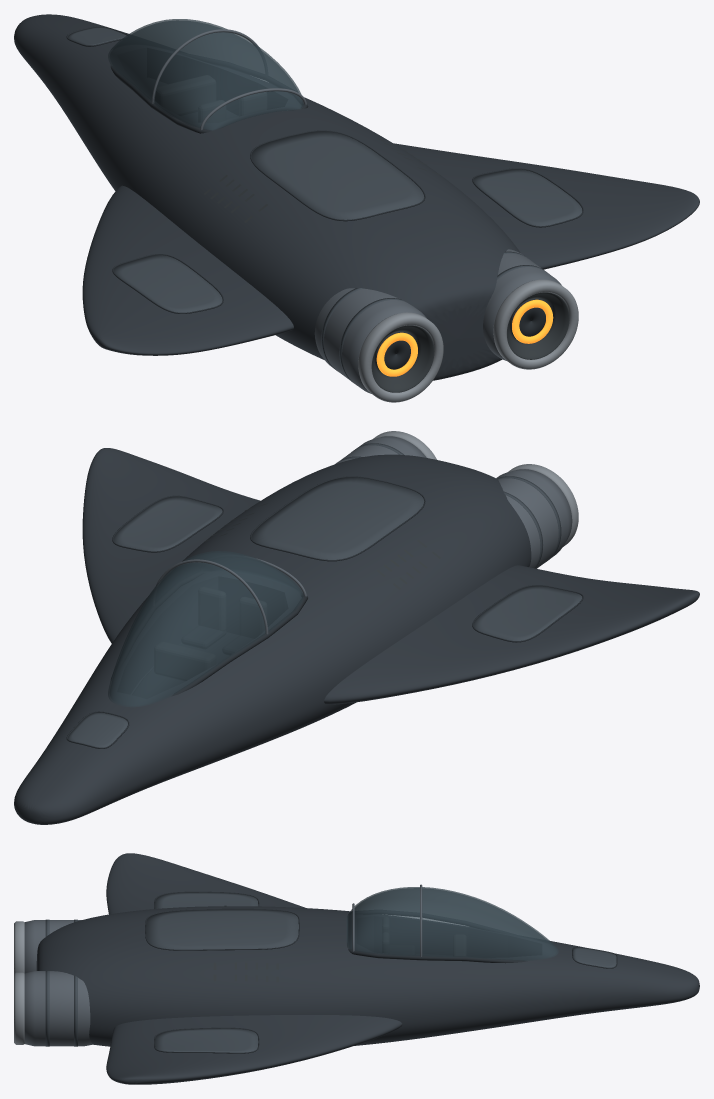
File: lp-explorer-stage1.glb
3 renders of one model, top to bottom at view 1: azimuth 30°, elevation 25°; view 2: azimuth 150°, elevation 25°; view 3: azimuth 270°, elevation 25°, orthographic. The views are drawn at different scales.
Parts seen in each view (by area): view 1: HULL_continuous_pressure_body, HULL_port_swept_shoulder, COCKPIT_smoked_panoramic_glazing, HULL_starboard_swept_shoulder, HULL_dorsal_avionics_access, ENGINE_port_structural_outer_shell, WING_port_thermal_service_panel, WING_starboard_thermal_service_panel, ENGINE_port_bevelled_exit_ring, ENGINE_starboard_bevelled_exit_ring, ENGINE_starboard_structural_outer_shell, ENGINE_port_recessed_nozzle_liner (+9 smaller); view 2: HULL_continuous_pressure_body, HULL_port_swept_shoulder, COCKPIT_smoked_panoramic_glazing, HULL_starboard_swept_shoulder, HULL_dorsal_avionics_access, ENGINE_port_structural_outer_shell, WING_port_thermal_service_panel, WING_starboard_thermal_service_panel, COCKPIT_integrated_instrument_console, COCKPIT_recessed_perimeter_gasket, HULL_bow_sensor_access, COCKPIT_recessed_interior_floor (+6 smaller); view 3: HULL_continuous_pressure_body, HULL_starboard_swept_shoulder, COCKPIT_smoked_panoramic_glazing, HULL_dorsal_avionics_access, HULL_port_swept_shoulder, ENGINE_starboard_structural_outer_shell, WING_starboard_thermal_service_panel, COCKPIT_recessed_perimeter_gasket, WING_port_thermal_service_panel, ENGINE_port_structural_outer_shell, ENGINE_starboard_bevelled_exit_ring, HULL_bow_sensor_access (+3 smaller).
Part boxes in pixels (x1=…): HULL_continuous_pressure_body: x1=14, y1=14, x2=520, y2=380; HULL_port_swept_shoulder: x1=82, y1=185, x2=293, y2=355; COCKPIT_smoked_panoramic_glazing: x1=108, y1=19, x2=303, y2=130; HULL_starboard_swept_shoulder: x1=394, y1=143, x2=699, y2=269; HULL_dorsal_avionics_access: x1=251, y1=131, x2=424, y2=219; ENGINE_port_structural_outer_shell: x1=314, y1=288, x2=426, y2=393; WING_port_thermal_service_panel: x1=113, y1=255, x2=222, y2=312; WING_starboard_thermal_service_panel: x1=473, y1=169, x2=582, y2=226; ENGINE_port_bevelled_exit_ring: x1=358, y1=312, x2=443, y2=402; ENGINE_starboard_bevelled_exit_ring: x1=493, y1=279, x2=578, y2=369; ENGINE_starboard_structural_outer_shell: x1=483, y1=249, x2=561, y2=360; ENGINE_port_recessed_nozzle_liner: x1=371, y1=325, x2=434, y2=392; HULL_continuous_pressure_body: x1=14, y1=454, x2=531, y2=824; HULL_port_swept_shoulder: x1=324, y1=565, x2=699, y2=704; COCKPIT_smoked_panoramic_glazing: x1=108, y1=551, x2=303, y2=707; HULL_starboard_swept_shoulder: x1=82, y1=448, x2=260, y2=643; HULL_dorsal_avionics_access: x1=251, y1=477, x2=424, y2=559; ENGINE_port_structural_outer_shell: x1=496, y1=469, x2=572, y2=568; WING_port_thermal_service_panel: x1=473, y1=585, x2=582, y2=640; WING_starboard_thermal_service_panel: x1=113, y1=496, x2=222, y2=551; COCKPIT_integrated_instrument_console: x1=154, y1=642, x2=215, y2=680; COCKPIT_recessed_perimeter_gasket: x1=110, y1=571, x2=307, y2=696; HULL_bow_sensor_access: x1=68, y1=712, x2=127, y2=747; COCKPIT_recessed_interior_floor: x1=132, y1=632, x2=238, y2=698; HULL_continuous_pressure_body: x1=36, y1=906, x2=699, y2=1046; HULL_starboard_swept_shoulder: x1=106, y1=1015, x2=402, y2=1084; COCKPIT_smoked_panoramic_glazing: x1=346, y1=887, x2=558, y2=960; HULL_dorsal_avionics_access: x1=146, y1=909, x2=298, y2=949; HULL_port_swept_shoulder: x1=106, y1=853, x2=305, y2=914; ENGINE_starboard_structural_outer_shell: x1=24, y1=971, x2=92, y2=1046; WING_starboard_thermal_service_panel: x1=155, y1=1028, x2=258, y2=1052; COCKPIT_recessed_perimeter_gasket: x1=348, y1=910, x2=527, y2=963; WING_port_thermal_service_panel: x1=155, y1=892, x2=258, y2=908; ENGINE_port_structural_outer_shell: x1=24, y1=920, x2=81, y2=973; ENGINE_starboard_bevelled_exit_ring: x1=14, y1=972, x2=24, y2=1044; HULL_bow_sensor_access: x1=573, y1=947, x2=616, y2=967.
Bounding box in the file's own units: 10.8 × 3.11 × 13.82.
